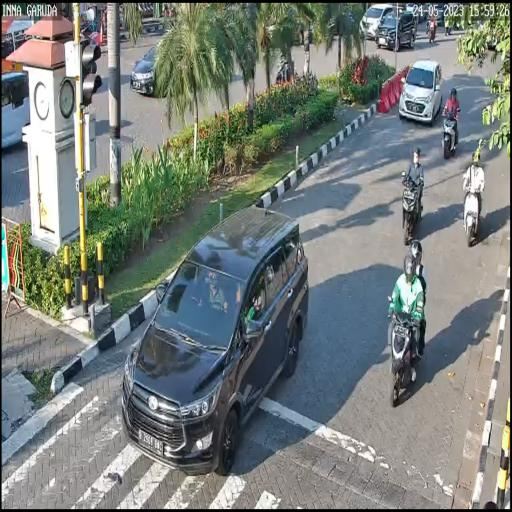mobil: (123, 204, 311, 474), (400, 57, 442, 126)
motor: (387, 294, 426, 409), (399, 169, 425, 246), (462, 180, 483, 246), (441, 104, 460, 162)
